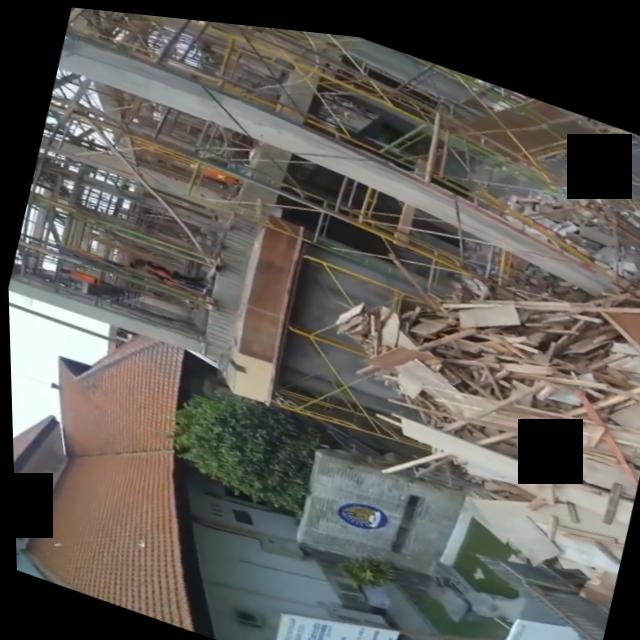Building: (0, 0, 431, 405), (9, 403, 426, 640), (340, 244, 640, 564)
Tree: (159, 372, 328, 517)
